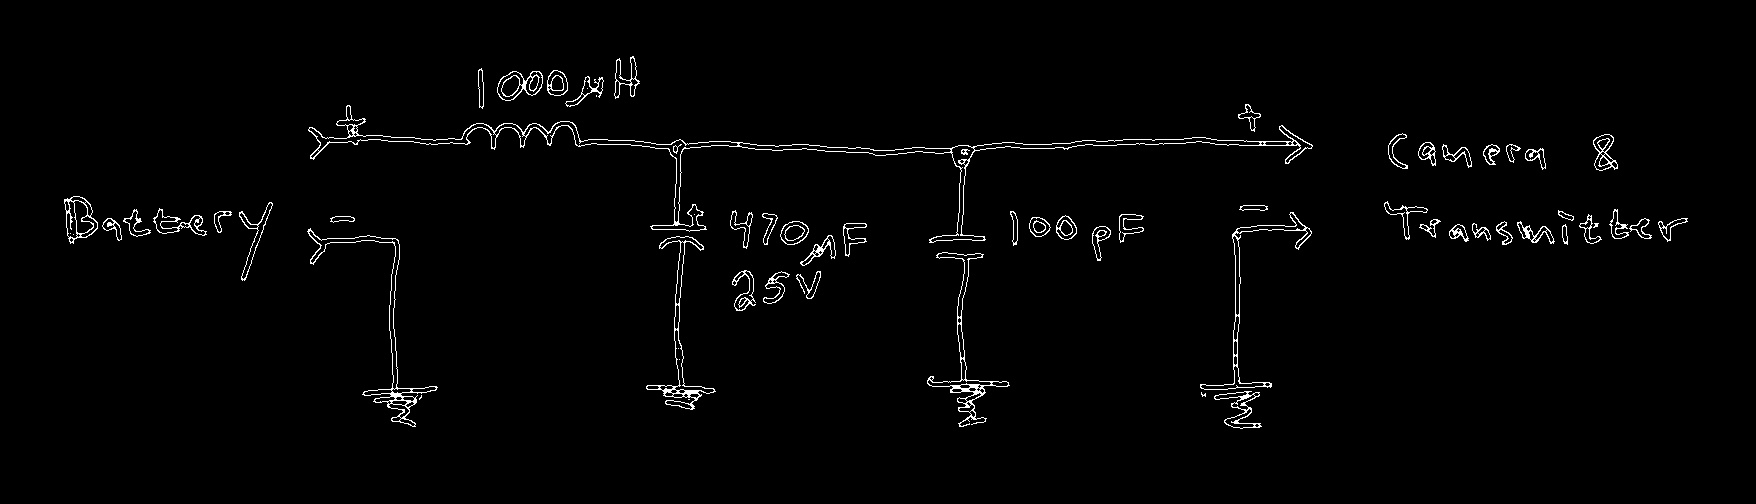capacitor: (638, 198, 714, 270), (921, 211, 992, 280)
ground0: (918, 360, 1014, 474), (1195, 363, 1282, 468), (355, 368, 440, 470), (638, 361, 722, 458)
inductor: (445, 111, 601, 164)
